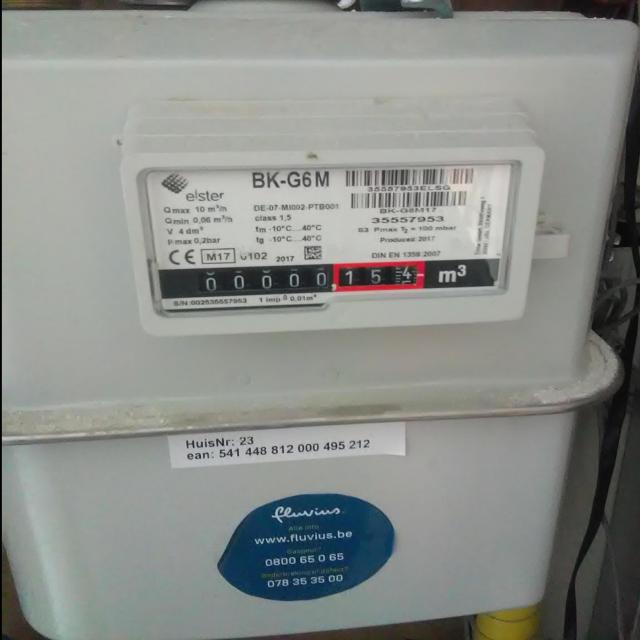gaz_meter: (141, 162, 518, 310)
indication: (182, 262, 425, 298)
